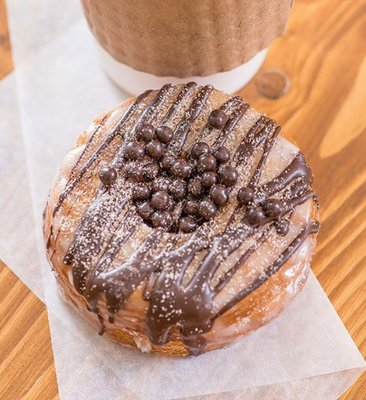curry: (0, 1, 366, 395)
sushi: (45, 84, 322, 363)
